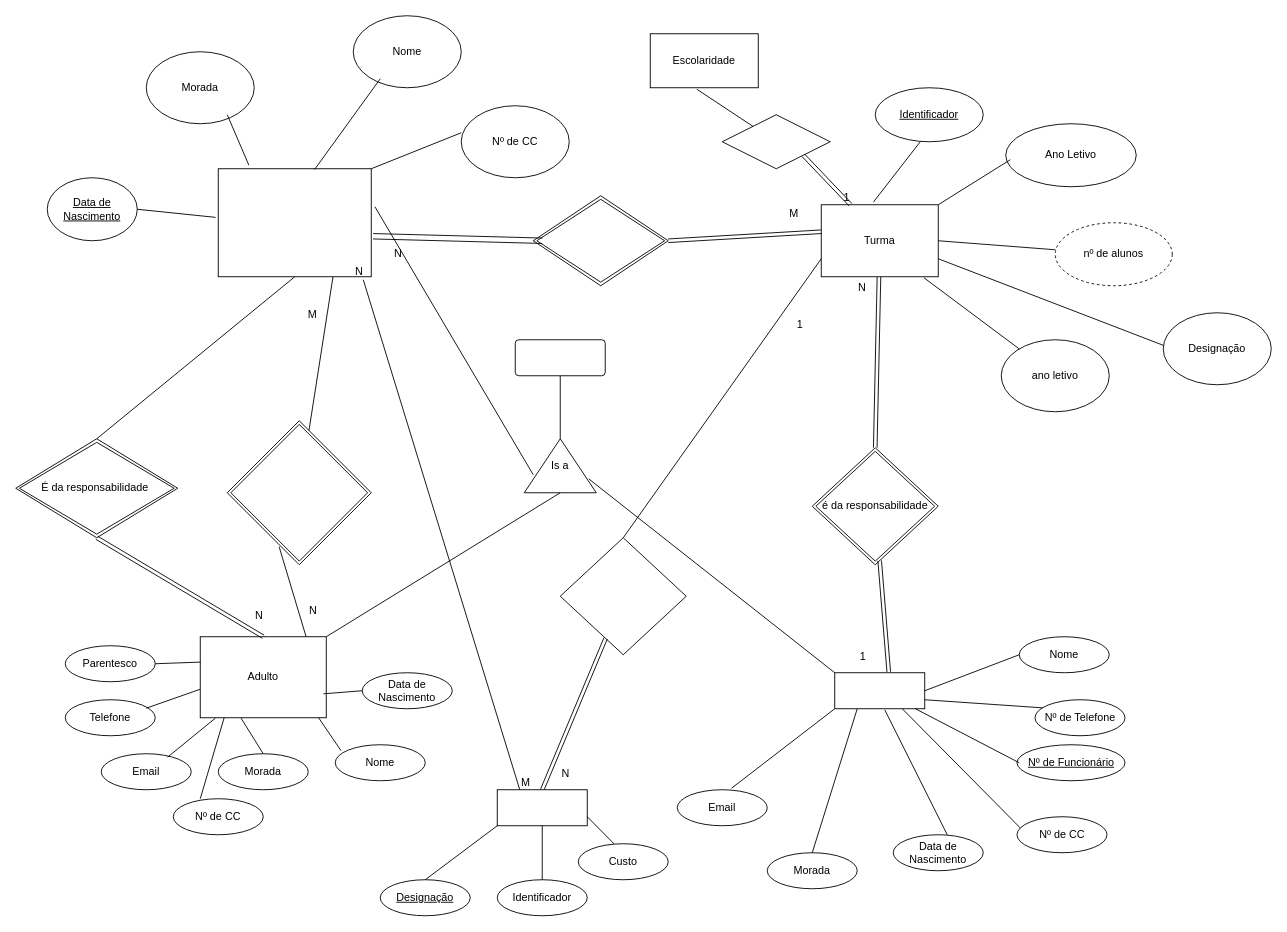
The diagram is 1287 pixels wide and 932 high, and some of its shapes have lost their labels. Here are the shapes that lost their labels. From the top down, the box of each, then its label:
(721, 114, 830, 169): Tem
(217, 168, 371, 277): Aluno
(532, 195, 668, 286): Frequenta
(514, 339, 605, 376): Pessoa
(226, 420, 371, 565): Autorizado
(559, 537, 686, 655): Podem Realizar
(834, 672, 925, 709): Professor
(496, 789, 587, 826): Atividades
